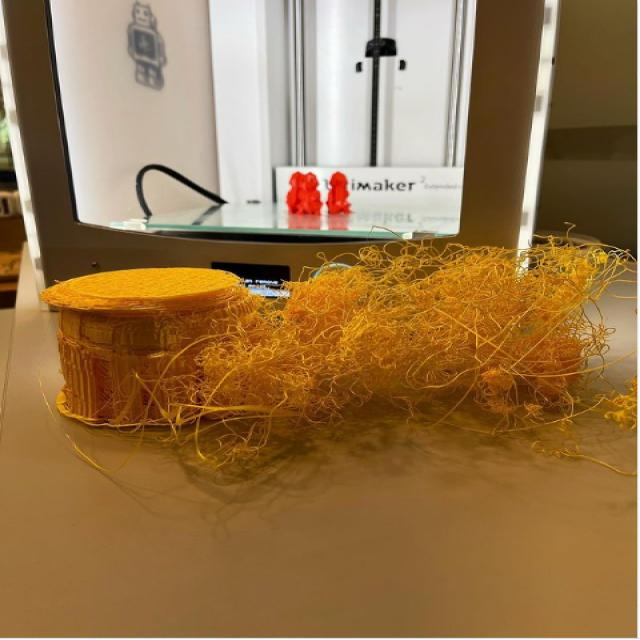spaghetti: (196, 239, 623, 430)
